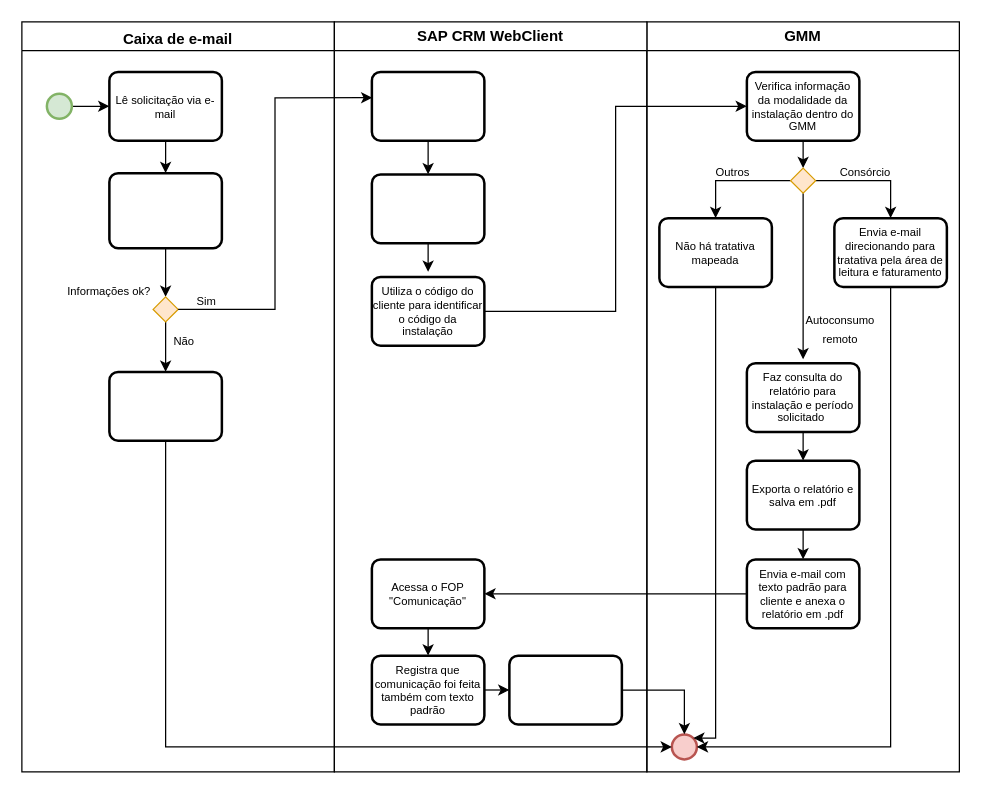
This 981x794 diagram has some shape labels left out. Each missing label, with the centre of its shape:
Abre SAP CRM WebClient no perfil ZBACK_OFFICE na empresa solicitada: pixel 427 105
Acessa o FOP "Identificação": pixel 427 208
Fim: pixel 684 746
Identifica "máscara" com informações da solicitação: pixel 165 210
Registra que comunicação foi feita no forms de produtividade: pixel 565 689
Responde e-mail com máscara para que o cliente possa solicitar corretamente.: pixel 165 405
